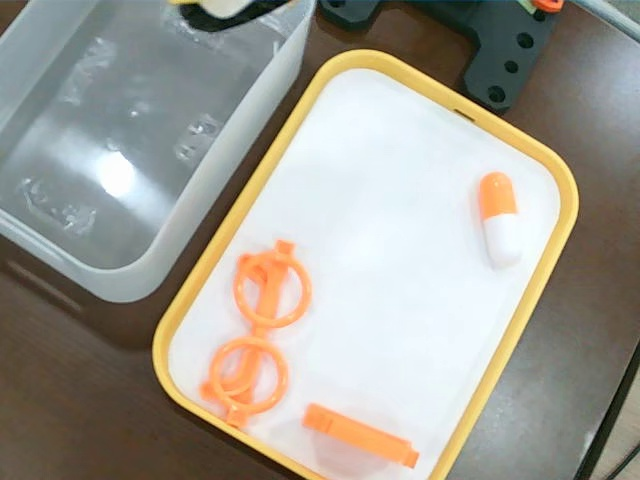pill: (477, 172, 527, 269)
